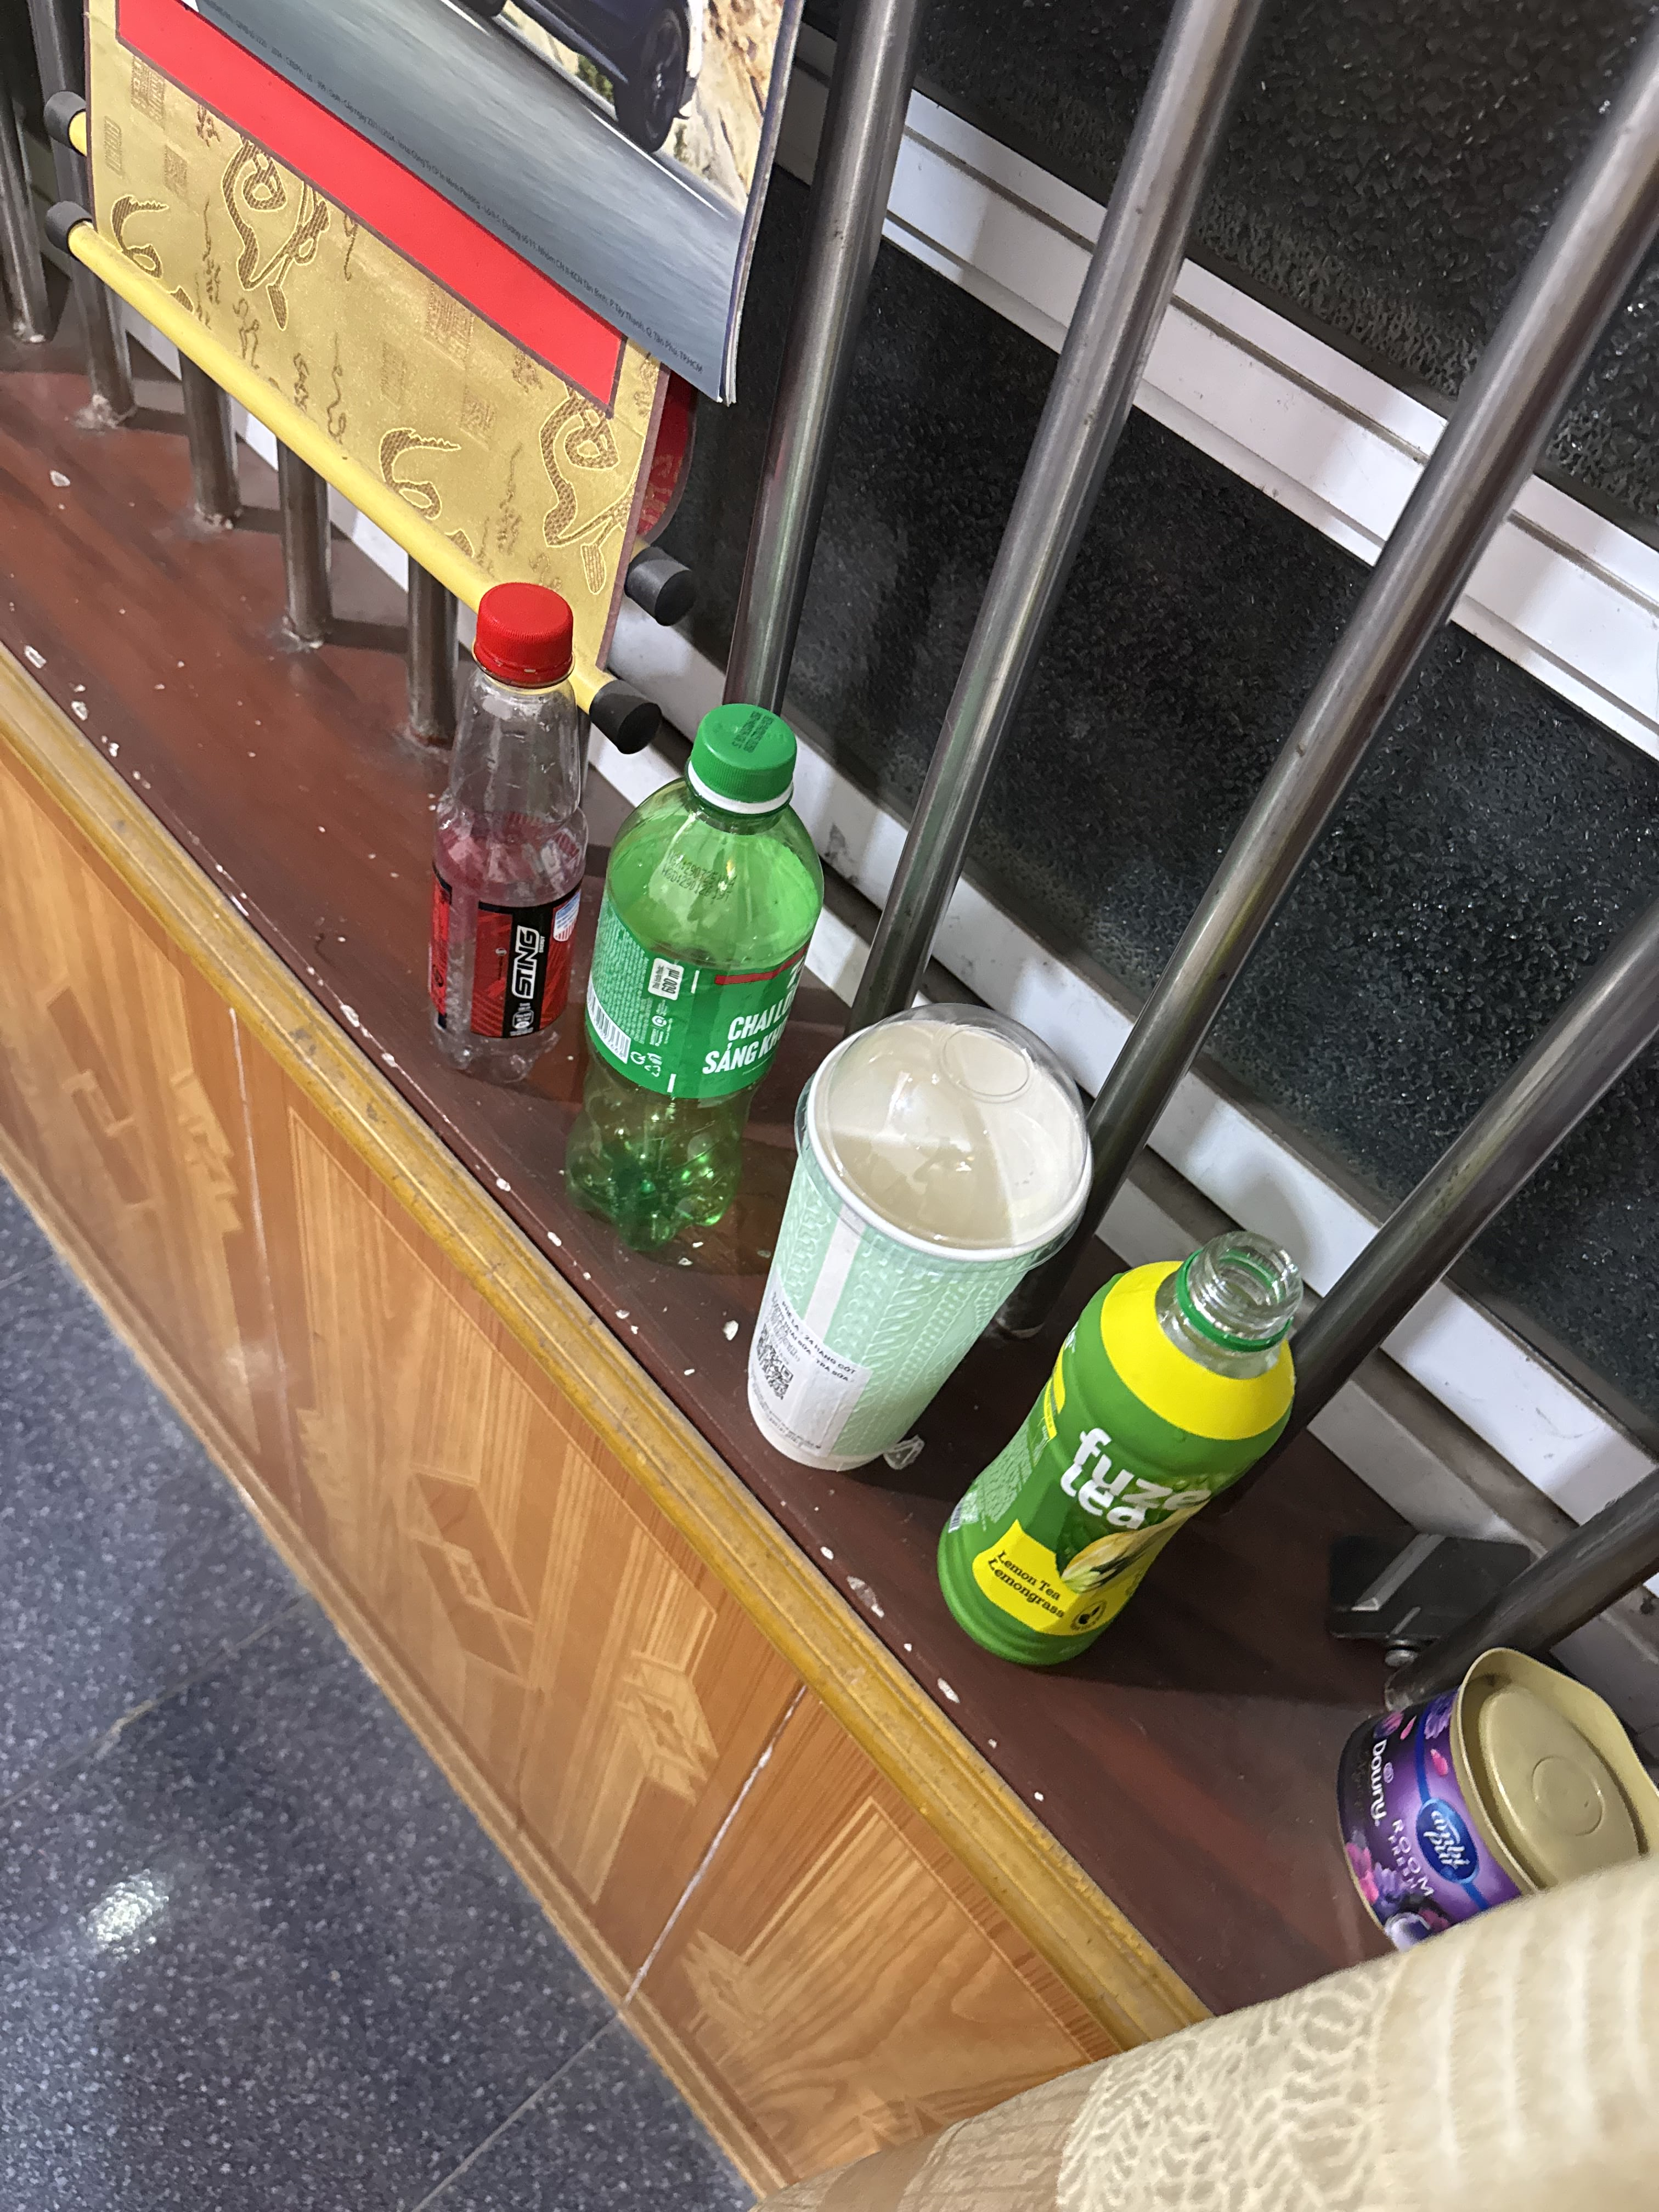2: (633, 967, 1124, 1512)
bottle: (896, 1212, 1335, 1696), (525, 664, 831, 1266), (427, 557, 577, 1099)
